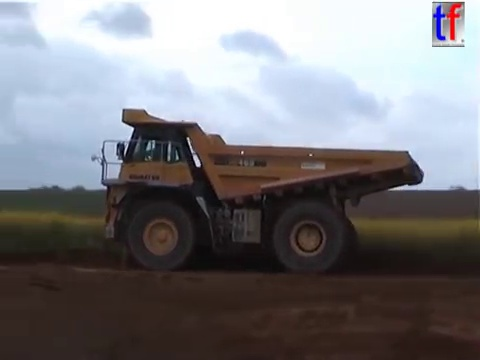truck: (87, 105, 426, 277)
